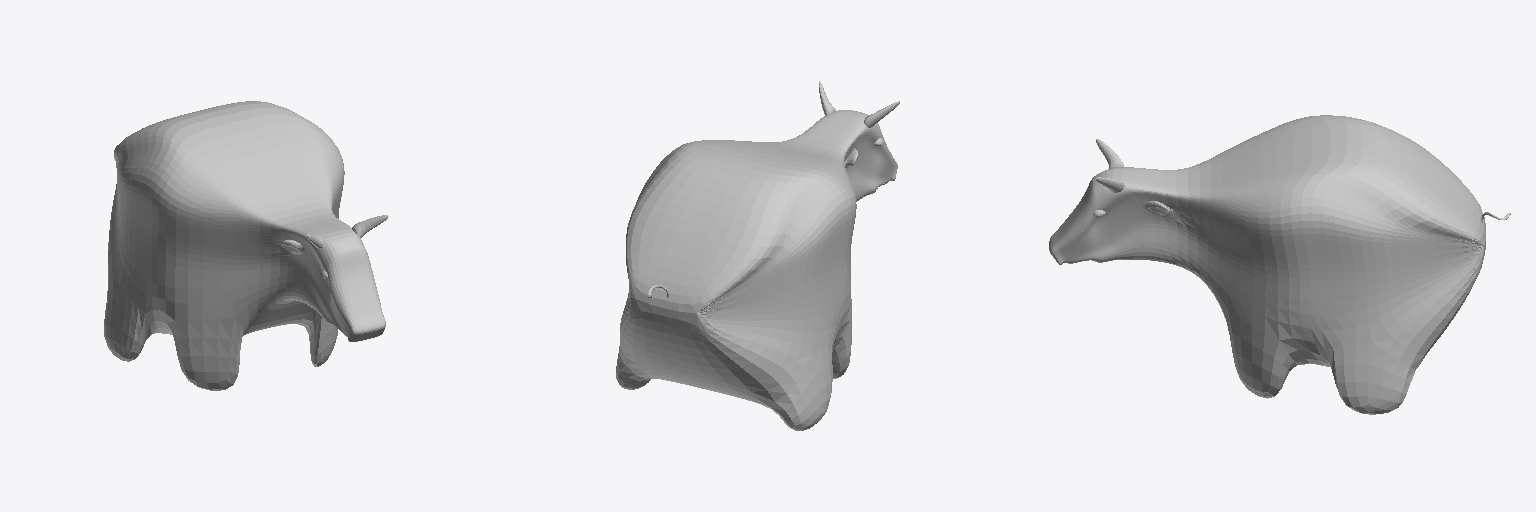
Rendered from adjusted_cow.obj.
The picture shows the model from 3 angles: view 1: azimuth 30°, elevation 25°; view 2: azimuth 150°, elevation 25°; view 3: azimuth 270°, elevation 25°; orthographic projection.
Parts seen in each view (by area): view 1: Cube, Cube.001; view 2: Cube, Cube.001; view 3: Cube, Cube.001.
Part boxes in pixels (bbox=[...]): Cube: bbox=[104, 101, 385, 390]; Cube.001: bbox=[307, 215, 388, 247]; Cube: bbox=[616, 110, 897, 430]; Cube.001: bbox=[819, 81, 899, 127]; Cube: bbox=[1049, 115, 1485, 414]; Cube.001: bbox=[1096, 139, 1124, 192].
Size of the model in its own units: 8.37 by 9.51 by 17.18.